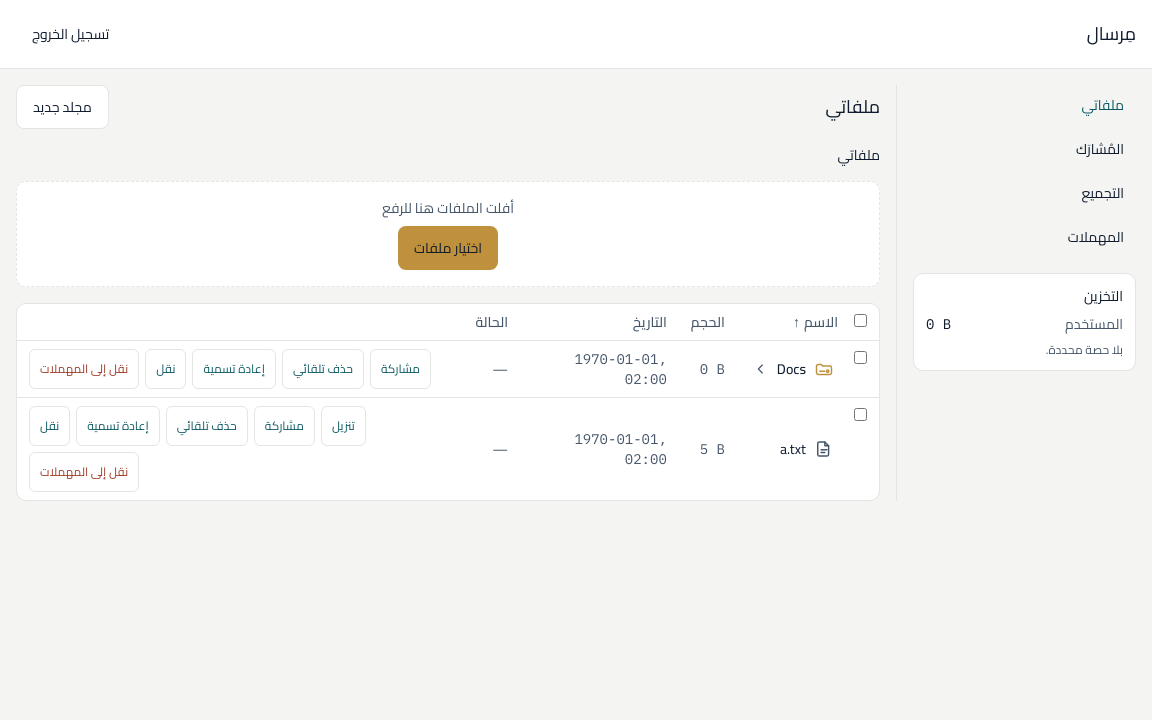
Scenario: DriveView — dispatch register (§4.6 / §4.3) › the select-all checkbox toggles every row in the current folder (#8)
Expected: the table is shown, [17, 304, 879, 500]
Click the checkbox named "تحديد الكل".
click(860, 320)  # box [854, 314, 867, 327]
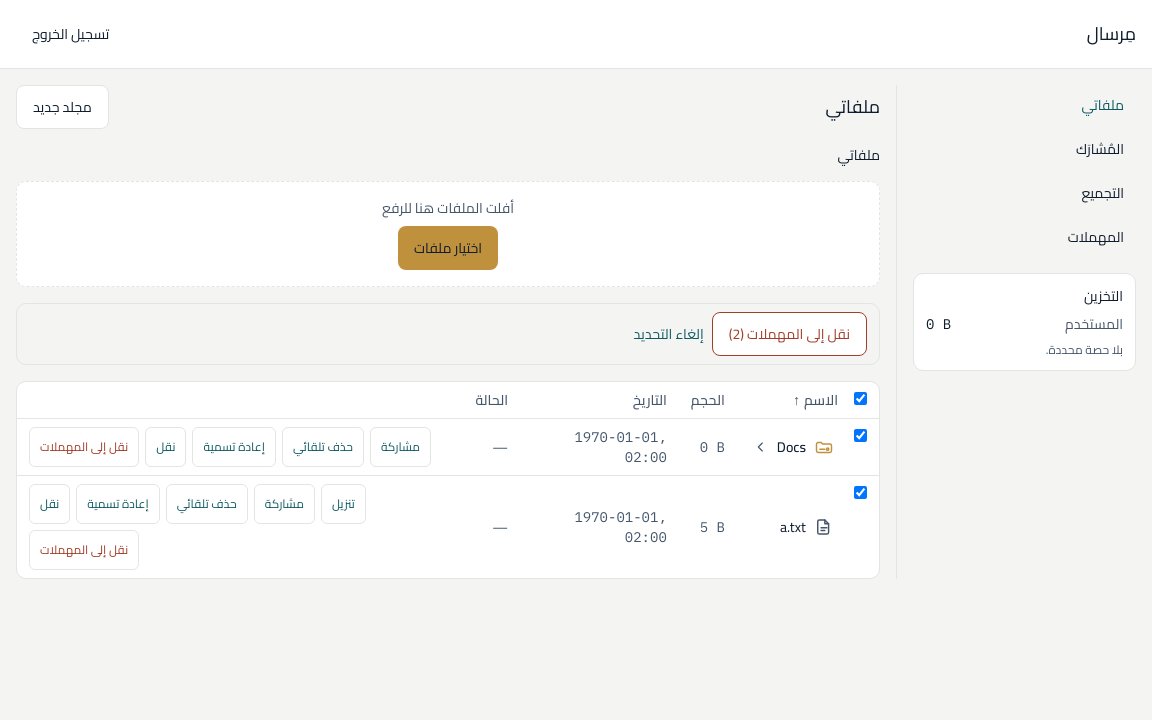
Expected: the button "نقل إلى المهملات (2)" is shown, [712, 312, 867, 356]
